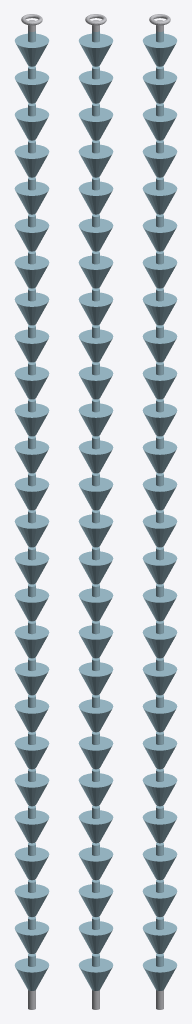
Rendered from Cadena_3152mm.fbx.
3 renders of one model, left to right at view 1: azimuth 90°, elevation 25°; view 2: azimuth 150°, elevation 25°; view 3: azimuth 270°, elevation 25°, orthographic.
Visible parts, largest first — view 1: Cadena_3152mm; view 2: Cadena_3152mm; view 3: Cadena_3152mm.
Boxes of the visible parts, <box> form: Cadena_3152mm: <box>14,14,49,1009</box>; Cadena_3152mm: <box>78,14,113,1009</box>; Cadena_3152mm: <box>142,14,177,1009</box>.
Bounding box in the file's own units: 10 × 315 × 10.
